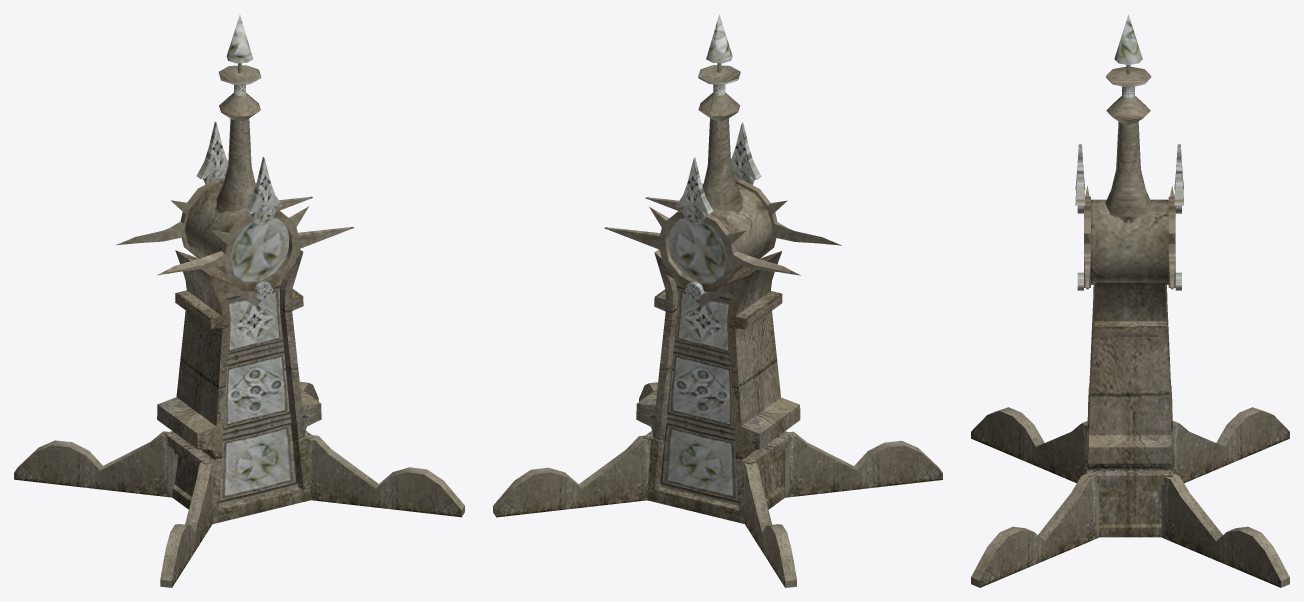
File: SM_Plains_zujian01.FBX
The picture shows the model from 3 angles, left to right: view 1: azimuth 30°, elevation 25°; view 2: azimuth 150°, elevation 25°; view 3: azimuth 270°, elevation 25°; orthographic projection. The views are drawn at different scales.
Parts seen in each view (by area): view 1: SM_Plains_zujian01; view 2: SM_Plains_zujian01; view 3: SM_Plains_zujian01.
Part boxes in pixels (x1,y1,x2,y2): SM_Plains_zujian01: (14, 14, 464, 587); SM_Plains_zujian01: (493, 14, 942, 587); SM_Plains_zujian01: (971, 14, 1289, 587).
Bounding box in the file's own units: 216 × 327 × 190.
